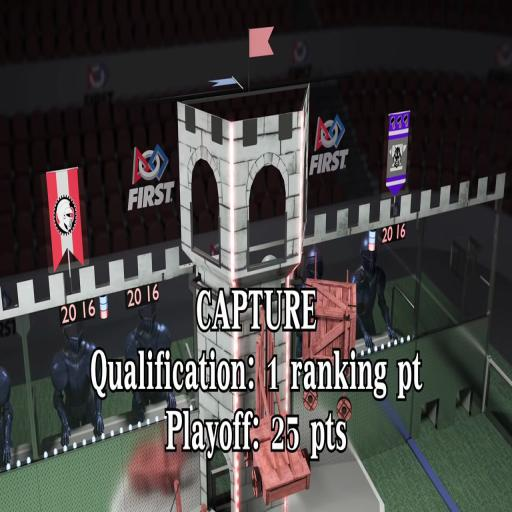robot: (241, 306, 313, 502), (302, 272, 358, 420)
